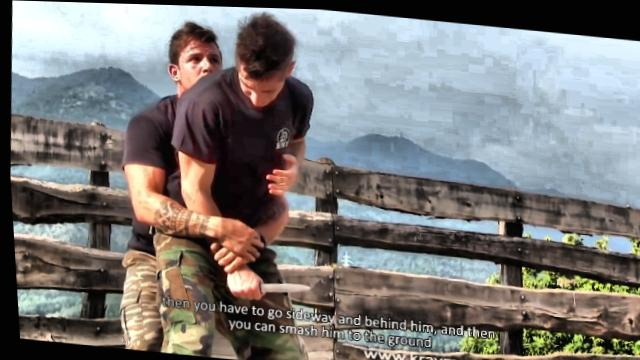knife: (218, 262, 314, 305)
